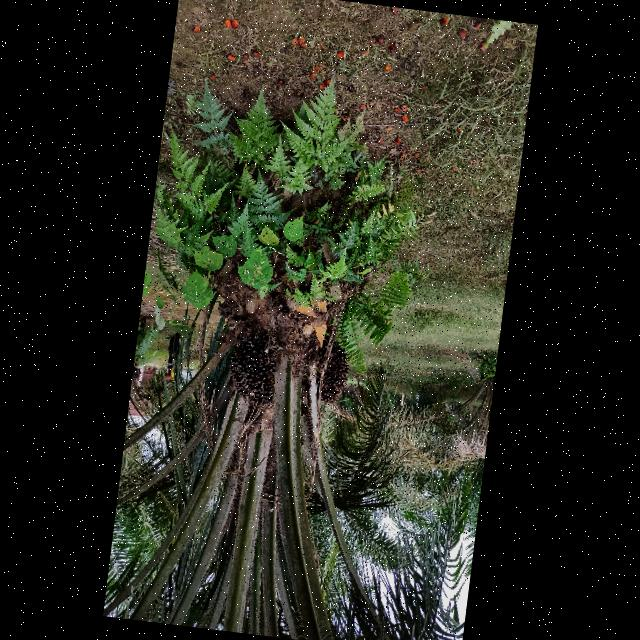Unripe: (228, 334, 276, 405), (319, 339, 348, 404)
